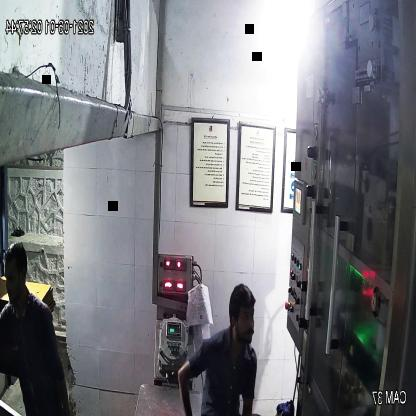no_goggles: (229, 308, 260, 328)
